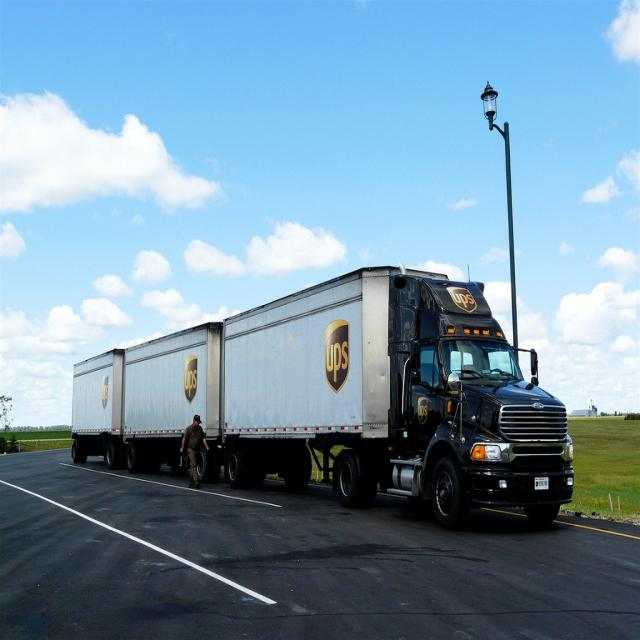ups: (325, 319, 351, 395), (447, 287, 478, 313), (185, 358, 199, 404), (101, 376, 112, 409)
